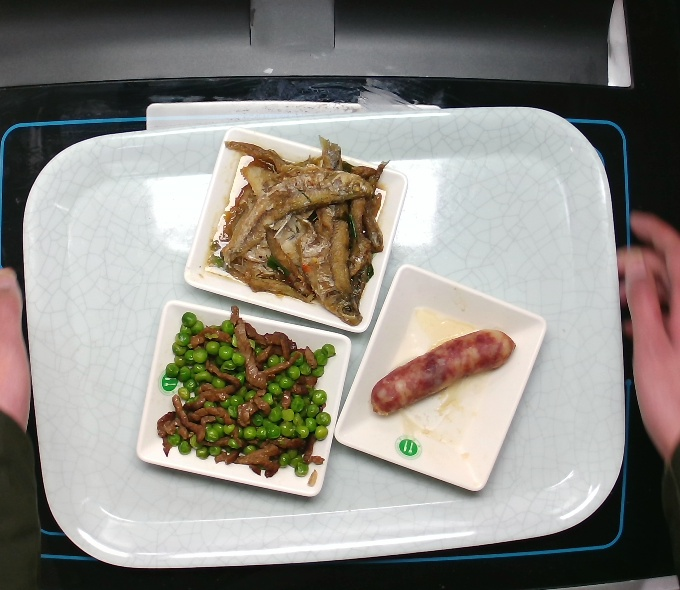wcq-CanDouNiuRou: (149, 306, 341, 495)
wcq-XiangChang: (368, 324, 523, 418)
wcq-XiaoJiYu: (208, 133, 393, 326)
